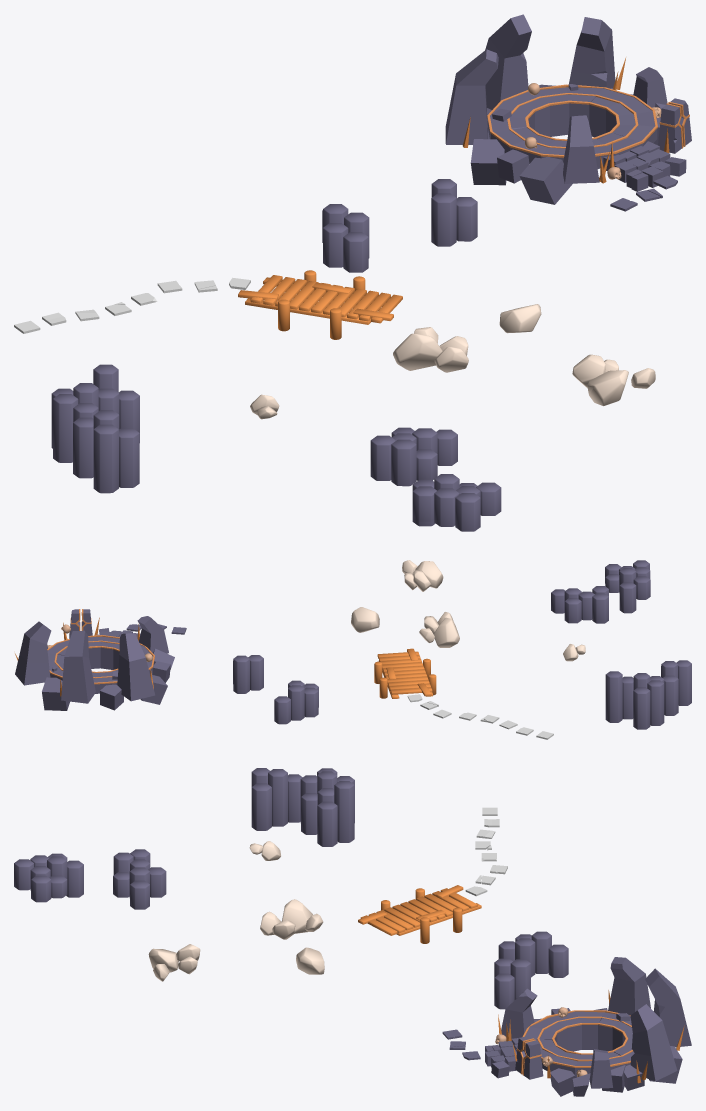
File: sceneryStaticVisual.glb
3 renders of one model, top to bottom at view 1: azimuth 30°, elevation 25°; view 2: azimuth 150°, elevation 25°; view 3: azimuth 270°, elevation 25°, orthographic. The views are drawn at different scales.
Parts seen in each view (by area): view 1: Cylinder.022, Cube.172, Cylinder.021, Cube.139, Cube.173, Cylinder.024, Cube.147, Cube.122, Cube.185, Cube.129, Cube.124; view 2: Cylinder.022, Cube.172, Cube.139, Cube.173, Cylinder.021, Cube.147, Cylinder.024, Cube.124, Cube.122, Cube.129, Cube.185; view 3: Cylinder.022, Cube.172, Cylinder.021, Cube.139, Cube.173, Cylinder.024, Cube.147, Cube.185, Cube.122, Cube.124.
Part boxes in pixels (left/top/right/bottom): Cylinder.022: left=51, top=179, right=501, bottom=531; Cube.172: left=445, top=14, right=667, bottom=183; Cylinder.021: left=488, top=87, right=686, bottom=191; Cube.139: left=238, top=270, right=402, bottom=339; Cube.173: left=470, top=84, right=665, bottom=204; Cylinder.024: left=487, top=84, right=657, bottom=157; Cube.147: left=14, top=280, right=217, bottom=333; Cube.122: left=393, top=333, right=442, bottom=370; Cube.185: left=658, top=98, right=691, bottom=153; Cube.129: left=587, top=370, right=628, bottom=406; Cube.124: left=499, top=304, right=541, bottom=333; Cylinder.022: left=233, top=560, right=691, bottom=729; Cube.172: left=15, top=616, right=168, bottom=703; Cube.139: left=374, top=648, right=436, bottom=698; Cube.173: left=42, top=648, right=174, bottom=710; Cylinder.021: left=47, top=628, right=154, bottom=693; Cube.147: left=420, top=701, right=553, bottom=739; Cylinder.024: left=47, top=635, right=154, bottom=684; Cube.124: left=351, top=607, right=379, bottom=632; Cube.122: left=433, top=617, right=459, bottom=647; Cube.129: left=415, top=561, right=443, bottom=588; Cube.185: left=69, top=609, right=92, bottom=638; Cylinder.022: left=14, top=768, right=568, bottom=1009; Cube.172: left=501, top=957, right=691, bottom=1088; Cylinder.021: left=485, top=1011, right=634, bottom=1078; Cube.139: left=358, top=885, right=481, bottom=943; Cube.173: left=534, top=1008, right=682, bottom=1096; Cylinder.024: left=522, top=1010, right=632, bottom=1067; Cube.147: left=475, top=807, right=507, bottom=885; Cube.185: left=515, top=1035, right=543, bottom=1079; Cube.122: left=282, top=899, right=312, bottom=933; Cube.124: left=296, top=947, right=324, bottom=974.
Bounding box in the file's own units: 51.63 × 8.2 × 48.62.
